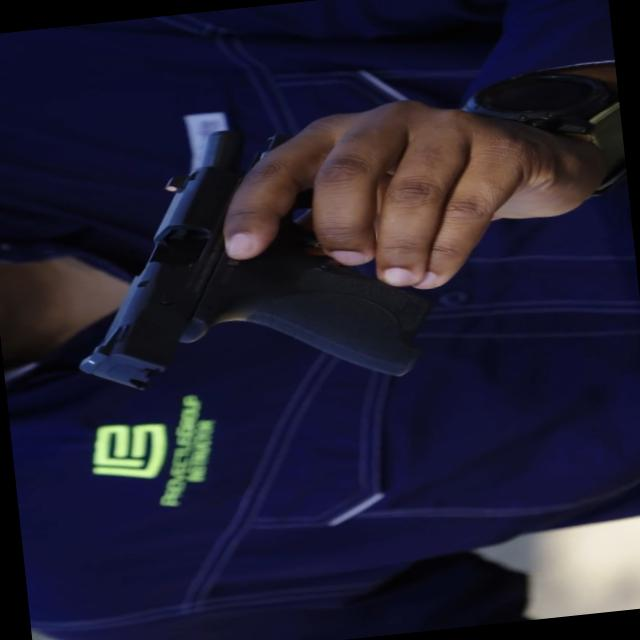handgun: (45, 85, 488, 446)
